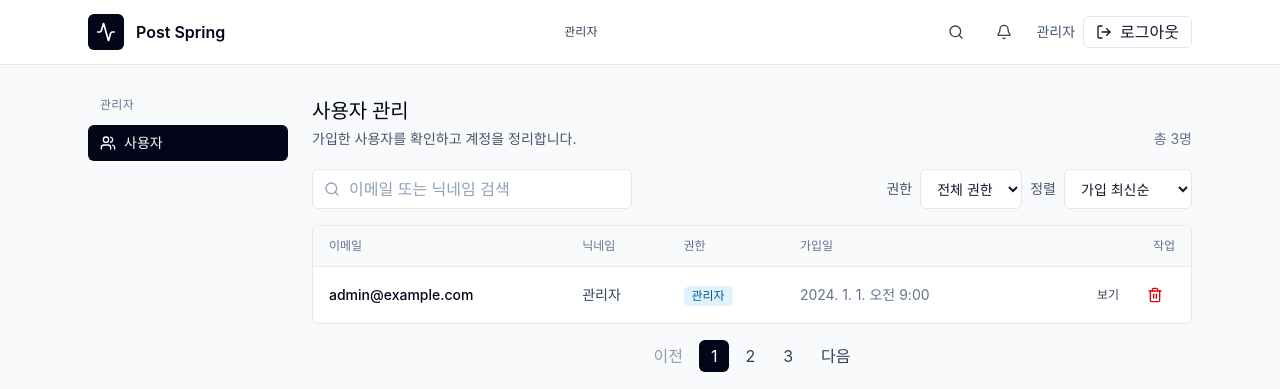
Test case: AdminUsersPage › jumps to a page via its number
Expected: the link "admin@example.com" is shown, [329,286,474,303]
Click the button named "페이지 3" at (788, 356), box [771,340,805,372]
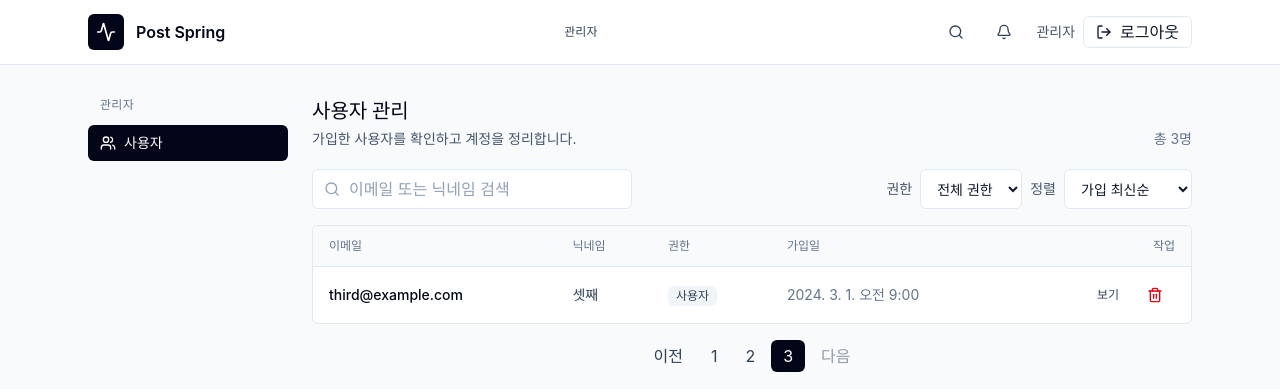
Now the link "third@example.com" is shown, box [329,286,463,303]
